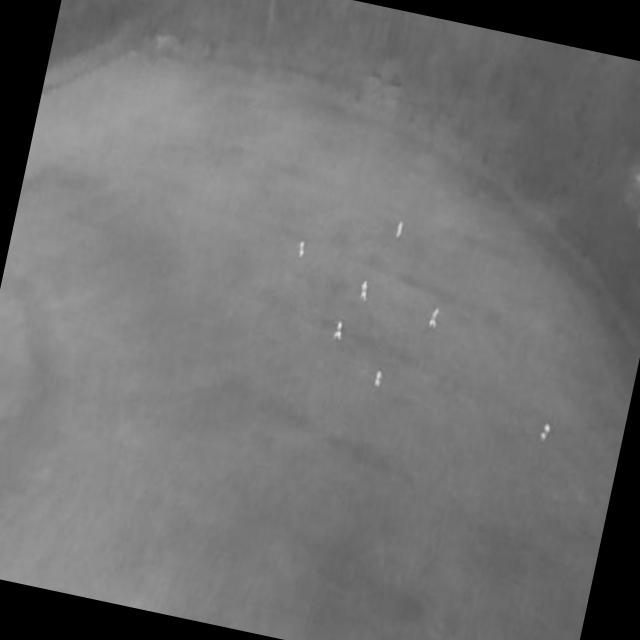person: (330, 320, 345, 345), (427, 306, 440, 331), (539, 420, 552, 444), (358, 280, 371, 304), (295, 239, 308, 259), (372, 367, 384, 388), (393, 220, 404, 239)
